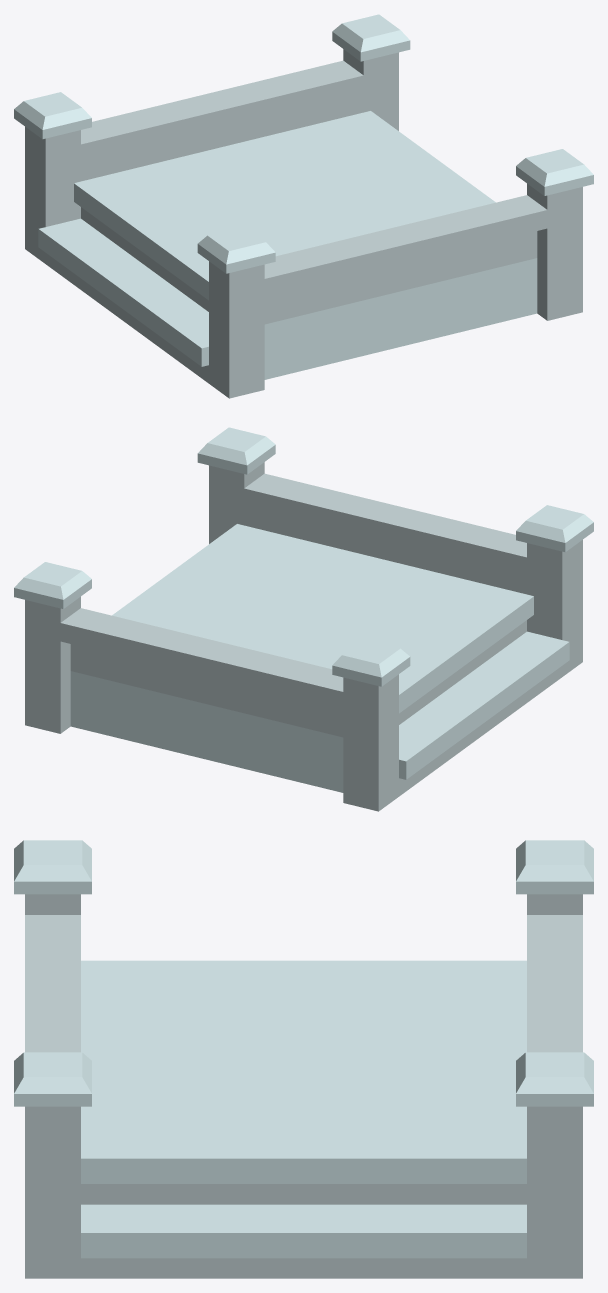
File: bridge_stone.glb
3 views of the same model, one above another, from view 1: azimuth 30°, elevation 25°; view 2: azimuth 150°, elevation 25°; view 3: azimuth 270°, elevation 25° (orthographic). The views are drawn at different scales.
Visible parts, largest first — view 1: bridge_stone; view 2: bridge_stone; view 3: bridge_stone.
Part boxes in pixels (x1=…): bridge_stone: x1=14, y1=14, x2=593, y2=398; bridge_stone: x1=14, y1=427, x2=593, y2=811; bridge_stone: x1=14, y1=840, x2=593, y2=1278.
Size of the model in its own units: 1.04 by 0.4 by 1.04.
